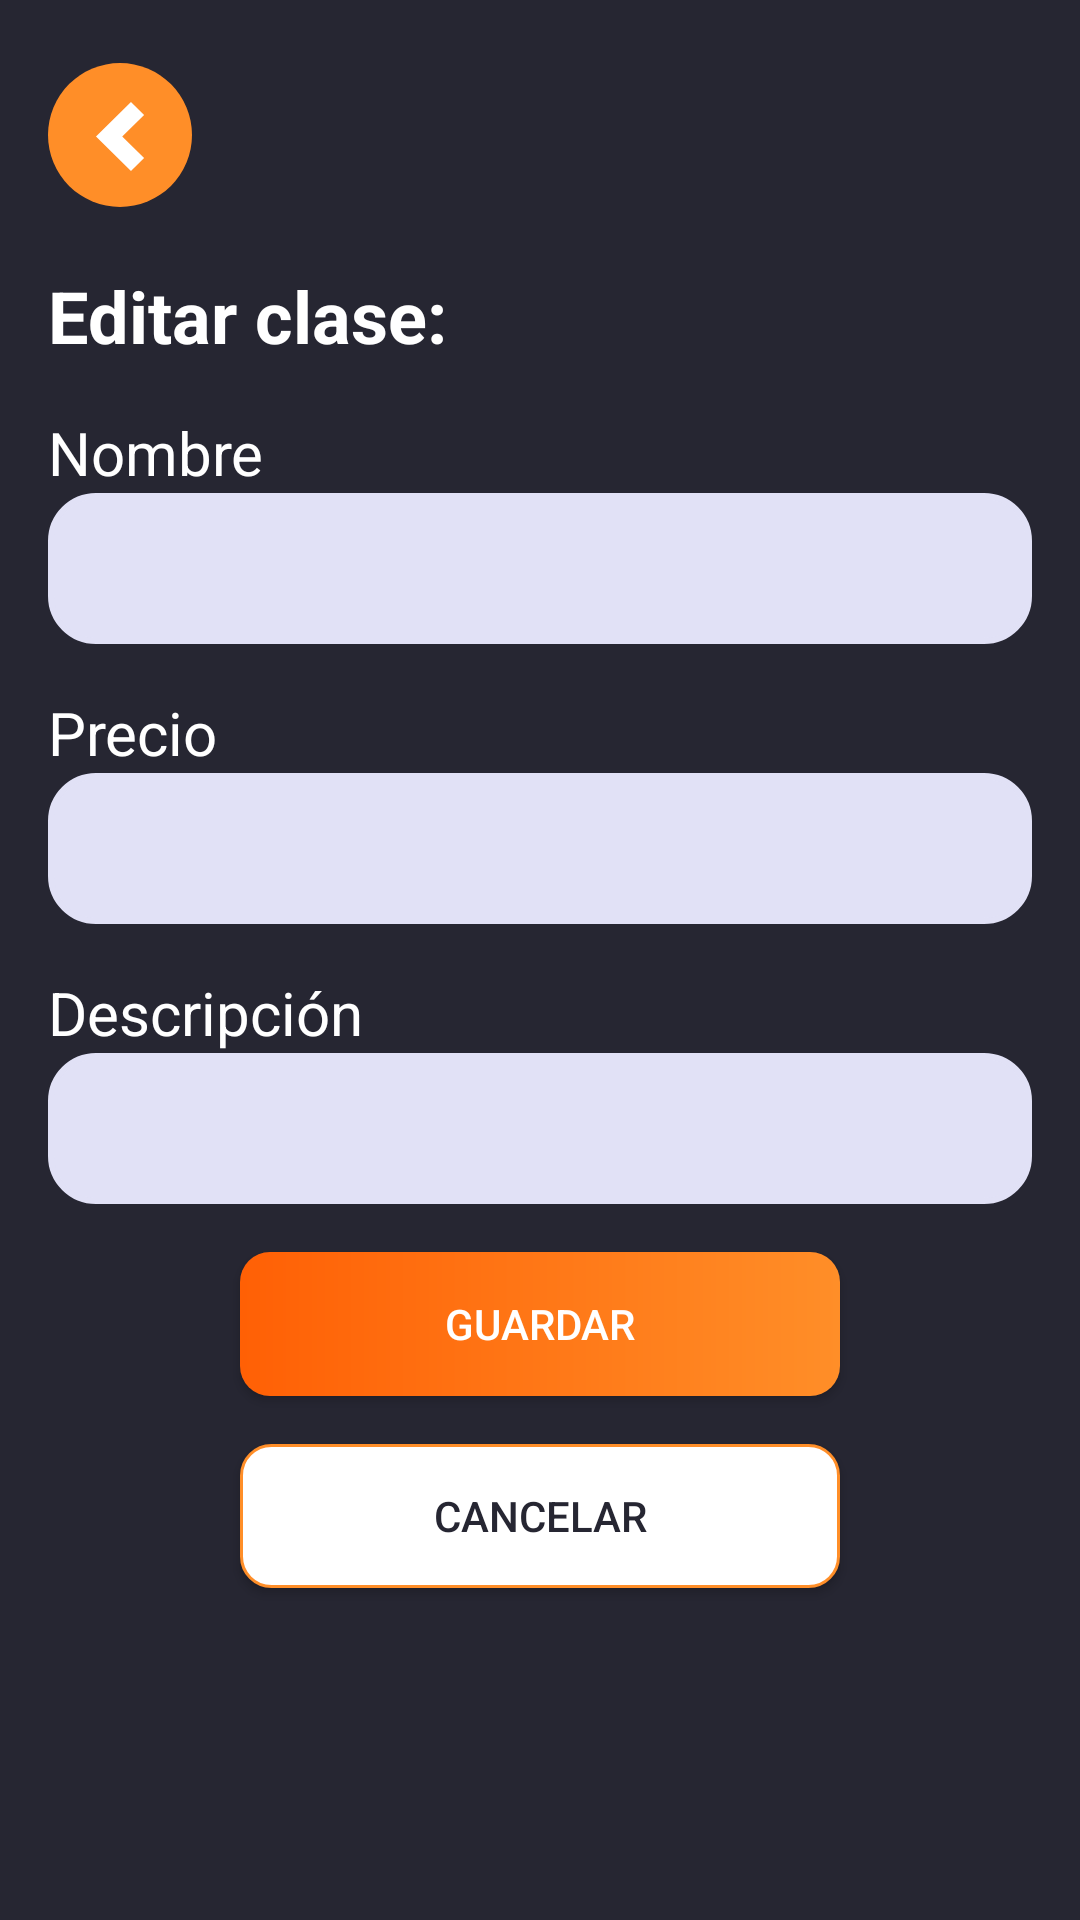

Where icons sit on this 1080px x 1920px app screen, as BBox(x1, y1, x2, y2):
Volver: BBox(48, 63, 192, 207)
